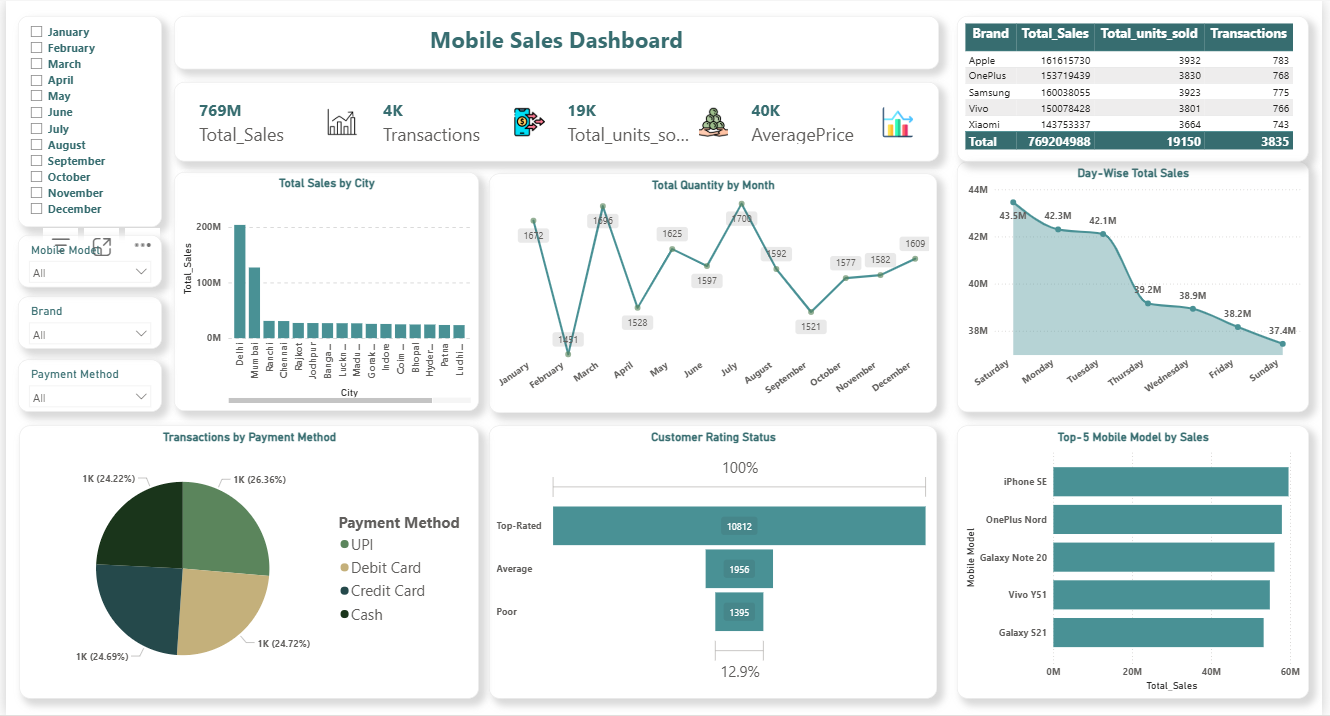

This screenshot's page, from the dashboard's own definition file:
{"tool":"powerbi","page":{"name":"Dashboard","canvas":[1880,1020],"ordinal":0},"visuals":[{"type":"slicer","fields":{"Values":["Custom_Calender.Date.Variation.Date Hierarchy.Month"]},"box":[17.8,21,205.6,301.2],"z":0},{"type":"cardVisual","fields":{"Data":["SalesData.Total_Sales","SalesData.Transactions","SalesData.Total_units_sold","SalesData.AveragePrice"]},"box":[239.6,115,1093,113.3],"z":1000},{"type":"slicer","fields":{"Values":["SalesData.Mobile Model"]},"box":[17.8,335.2,205.6,74.5],"z":2000},{"type":"slicer","fields":{"Values":["SalesData.Brand"]},"box":[17.8,422.6,205.6,74.5],"z":3000},{"type":"slicer","fields":{"Values":["SalesData.Payment Method"]},"box":[17.8,511.7,205.6,74.5],"z":4000},{"type":"textbox","box":[239.6,21,1093,76.1],"z":5000},{"type":"columnChart","title":"Total Sales by City","fields":{"Category":["SalesData.City"],"Y":["SalesData.Total_Sales"]},"box":[239.6,244.5,435.6,341.7],"z":6000},{"type":"lineChart","title":"Total Quantity by Month","fields":{"Category":["Custom_Calender.Date.Variation.Date Hierarchy.Month"],"Y":["SalesData.Total_units_sold"]},"box":[690.5,245.4,640,341.8],"z":7000},{"type":"funnel","title":"Customer Rating Status","fields":{"Y":["Sum(SalesData.Customer Ratings)"],"Category":["SalesData.Rating"]},"box":[690.5,605.6,640,390],"z":8000},{"type":"pieChart","fields":{"Y":["SalesData.Transactions"],"Category":["SalesData.Payment Method"]},"box":[18.4,605.6,656.1,390],"z":9000},{"type":"clusteredBarChart","title":"Top-5 Mobile Model by Sales","fields":{"Category":["SalesData.Mobile Model"],"Y":["SalesData.Total_Sales"]},"box":[1358,605.6,502.4,390],"z":10000},{"type":"areaChart","title":"Day-Wise Total Sales","fields":{"Y":["SalesData.Total_Sales"],"Category":["Custom_Calender.Day Name"]},"box":[1358,229.4,502.4,357.8],"z":11000},{"type":"tableEx","fields":{"Values":["SalesData.Brand","SalesData.Total_Sales","SalesData.Total_units_sold","SalesData.Transactions"]},"box":[1358,21,502,208],"z":12000}]}

Visuals, with their boxes in screenshot pixels (x1, y1, x2, y2), scaled from the page's 1880x1020 canvas onto the 1330x716 screenshot:
slicer - Custom_Calender.Date.Variation.Date Hierarchy.Month: 13,15,158,226
cardVisual - SalesData.Total_Sales x SalesData.Transactions: 170,81,943,160
slicer - SalesData.Mobile Model: 13,235,158,288
slicer - SalesData.Brand: 13,297,158,349
slicer - SalesData.Payment Method: 13,359,158,411
textbox: 170,15,943,68
"Total Sales by City" columnChart: 170,172,478,411
"Total Quantity by Month" lineChart: 488,172,941,412
"Customer Rating Status" funnel: 488,425,941,699
pieChart - SalesData.Transactions x SalesData.Payment Method: 13,425,477,699
"Top-5 Mobile Model by Sales" clusteredBarChart: 961,425,1316,699
"Day-Wise Total Sales" areaChart: 961,161,1316,412
tableEx - SalesData.Brand x SalesData.Total_Sales: 961,15,1316,161
